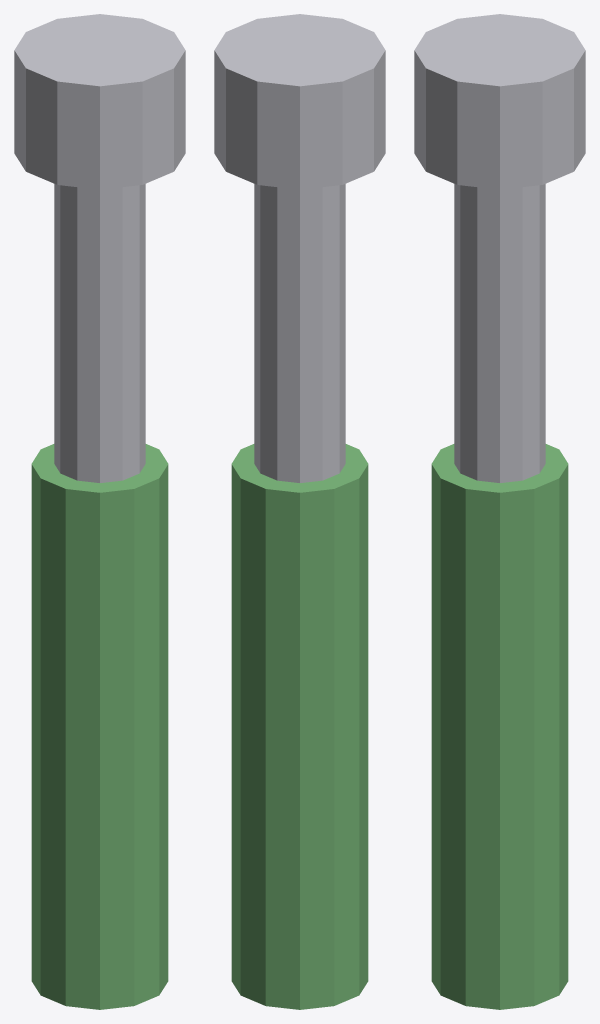
Rendered from sprinkler_handheld.glb.
The picture shows the model from 3 angles, left to right: view 1: azimuth 30°, elevation 25°; view 2: azimuth 150°, elevation 25°; view 3: azimuth 270°, elevation 25°; orthographic projection.
Parts seen in each view (by area): view 1: HandheldSprinkler; view 2: HandheldSprinkler; view 3: HandheldSprinkler.
Boxes of the visible parts, x1,y1,x2,y2 form: HandheldSprinkler: [14, 14, 185, 1009]; HandheldSprinkler: [214, 14, 385, 1009]; HandheldSprinkler: [414, 14, 585, 1009].
Size of the model in its own units: 0.03 by 0.18 by 0.03.
